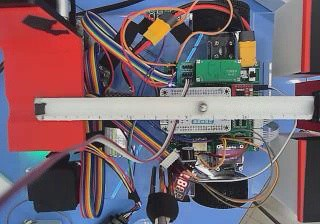ironball: (195, 101, 206, 112)
